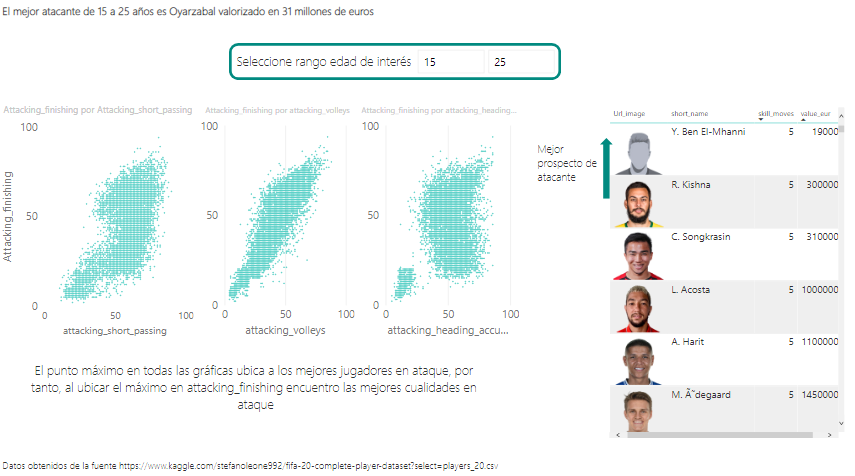

The dashboard page shown, as its layout file describes it:
{"tool":"powerbi","page":{"name":"Indicadores_Ataque","canvas":[1280,720],"ordinal":1},"visuals":[{"type":"scatterChart","title":"Attacking_finishing por Attacking_short_passing","fields":{"X":["Fifa.attacking_short_passing"],"Y":["Fifa.attacking_finishing"]},"box":[0,154.3,293.5,351],"z":0},{"type":"scatterChart","title":"Attacking_finishing por attacking_heading_accuracy","fields":{"Y":["Fifa.attacking_finishing"],"X":["Fifa.attacking_heading_accuracy"]},"box":[532.6,154.3,243.6,351],"z":1000},{"type":"tableEx","fields":{"Values":["Fifa.Url_image","Fifa.short_name","Sum(Fifa.skill_moves)","Sum(Fifa.value_eur)"]},"box":[901.7,154.3,358.6,500.8],"z":2000},{"type":"textbox","box":[0,676.3,915.4,43.9],"z":4000},{"type":"shape","box":[341.9,64.6,492.5,55],"z":5000},{"type":"slicer","fields":{"Values":["Fifa.age"]},"box":[608.7,64.6,307.7,55],"z":6000},{"type":"textbox","box":[347.6,73,299.2,55],"z":7000},{"type":"textbox","box":[33.3,531.1,696,89.3],"z":7001},{"type":"shape","box":[891.6,204.3,19.2,90.4],"z":7002},{"type":"textbox","box":[793.7,204.3,117,135.1],"z":7003},{"type":"scatterChart","title":"Attacking_finishing por attacking_volleys","fields":{"X":["Fifa.attacking_volleys"],"Y":["Fifa.attacking_finishing"]},"box":[293.5,154.3,239.1,351],"z":7004},{"type":"textbox","box":[0,0,1245.2,48.4],"z":7005}]}

Visuals, with their boxes in screenshot pixels (x1, y1, x2, y2), scaled from the page's 1280x720 canvas onto the 855x476 screenshot:
"Attacking_finishing por Attacking_short_passing" scatterChart: {"left": 0, "top": 102, "right": 196, "bottom": 334}
"Attacking_finishing por attacking_heading_accuracy" scatterChart: {"left": 356, "top": 102, "right": 518, "bottom": 334}
tableEx - Fifa.Url_image x Fifa.short_name: {"left": 602, "top": 102, "right": 842, "bottom": 433}
textbox: {"left": 0, "top": 447, "right": 611, "bottom": 475}
shape: {"left": 228, "top": 43, "right": 557, "bottom": 79}
slicer - Fifa.age: {"left": 407, "top": 43, "right": 612, "bottom": 79}
textbox: {"left": 232, "top": 48, "right": 432, "bottom": 85}
textbox: {"left": 22, "top": 351, "right": 487, "bottom": 410}
shape: {"left": 596, "top": 135, "right": 608, "bottom": 195}
textbox: {"left": 530, "top": 135, "right": 608, "bottom": 224}
"Attacking_finishing por attacking_volleys" scatterChart: {"left": 196, "top": 102, "right": 356, "bottom": 334}
textbox: {"left": 0, "top": 0, "right": 832, "bottom": 32}
